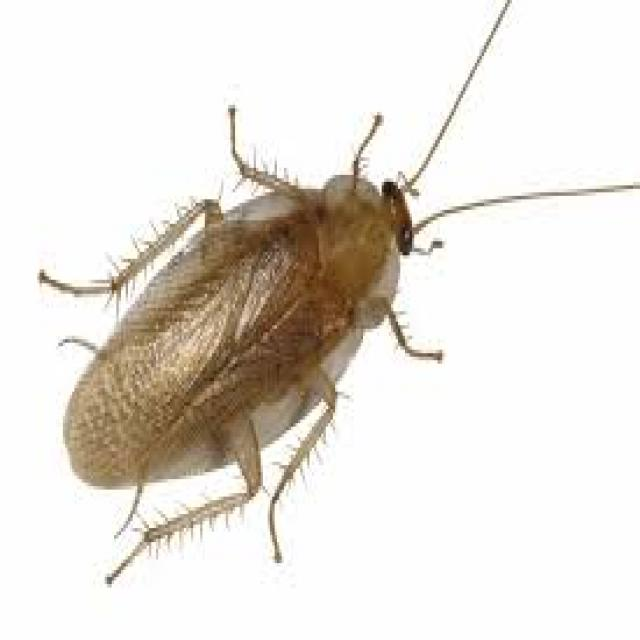Cockroach: (28, 0, 640, 593)
